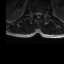CCS_normal: (37, 10, 39, 19)
LFS_normal: (42, 11, 43, 16)
LLS_normal: (39, 11, 42, 17)
RFS_stenosis: (33, 11, 35, 16)
RLS_normal: (35, 11, 37, 17)
